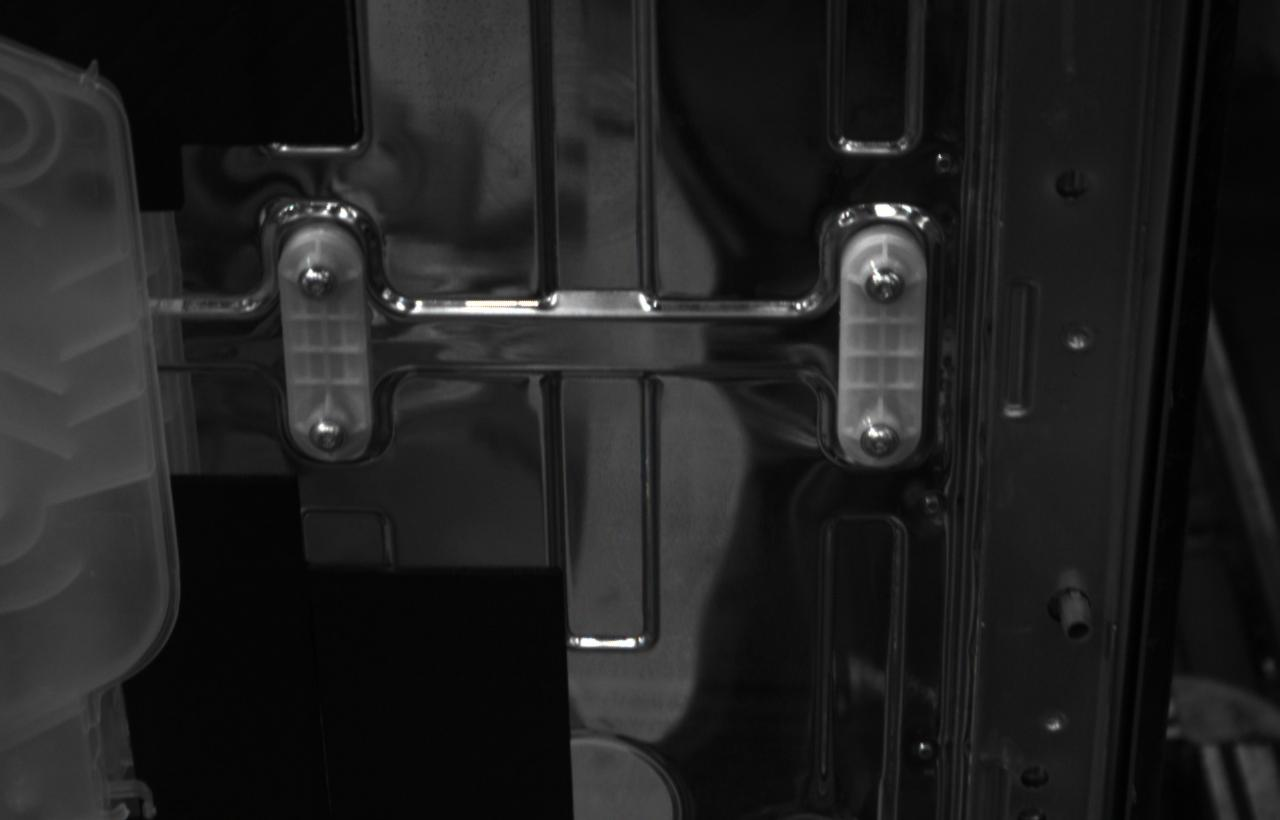vida-ok: (864, 267, 906, 304), (860, 424, 900, 459), (299, 266, 337, 302), (309, 418, 345, 452)
